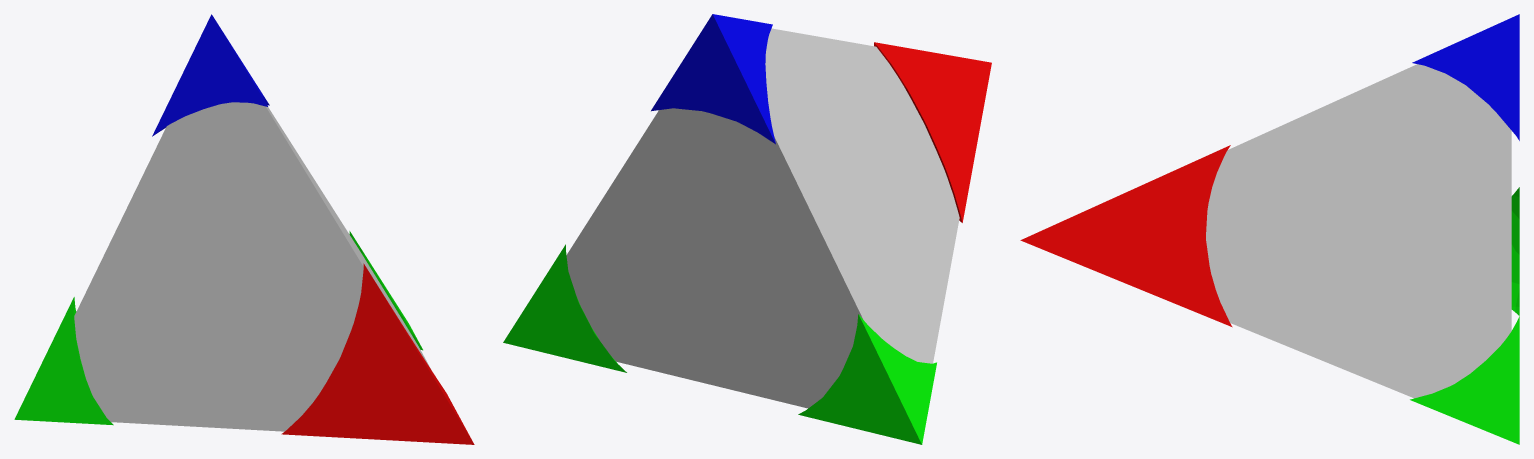
The model's file is BoidExample.fbx.
3 renders of one model, left to right at view 1: azimuth 30°, elevation 25°; view 2: azimuth 150°, elevation 25°; view 3: azimuth 270°, elevation 25°, orthographic. The views are drawn at different scales.
Parts seen in each view (by area): view 1: Center, Front, Bottom, Top; view 2: Center, Bottom, Top, Front; view 3: Center, Front, Bottom, Top.
Part boxes in pixels (<box>): Center: <box>74,102,430,431</box>; Front: <box>281,263,474,444</box>; Bottom: <box>14,231,422,425</box>; Top: <box>152,14,269,136</box>; Center: <box>566,28,959,408</box>; Bottom: <box>503,244,936,444</box>; Top: <box>651,14,775,144</box>; Front: <box>874,42,991,222</box>; Center: <box>1206,64,1511,398</box>; Front: <box>1020,145,1232,327</box>; Bottom: <box>1410,187,1519,444</box>; Top: <box>1412,14,1519,140</box>.
Size of the model in its own units: 173 by 150 by 200.
